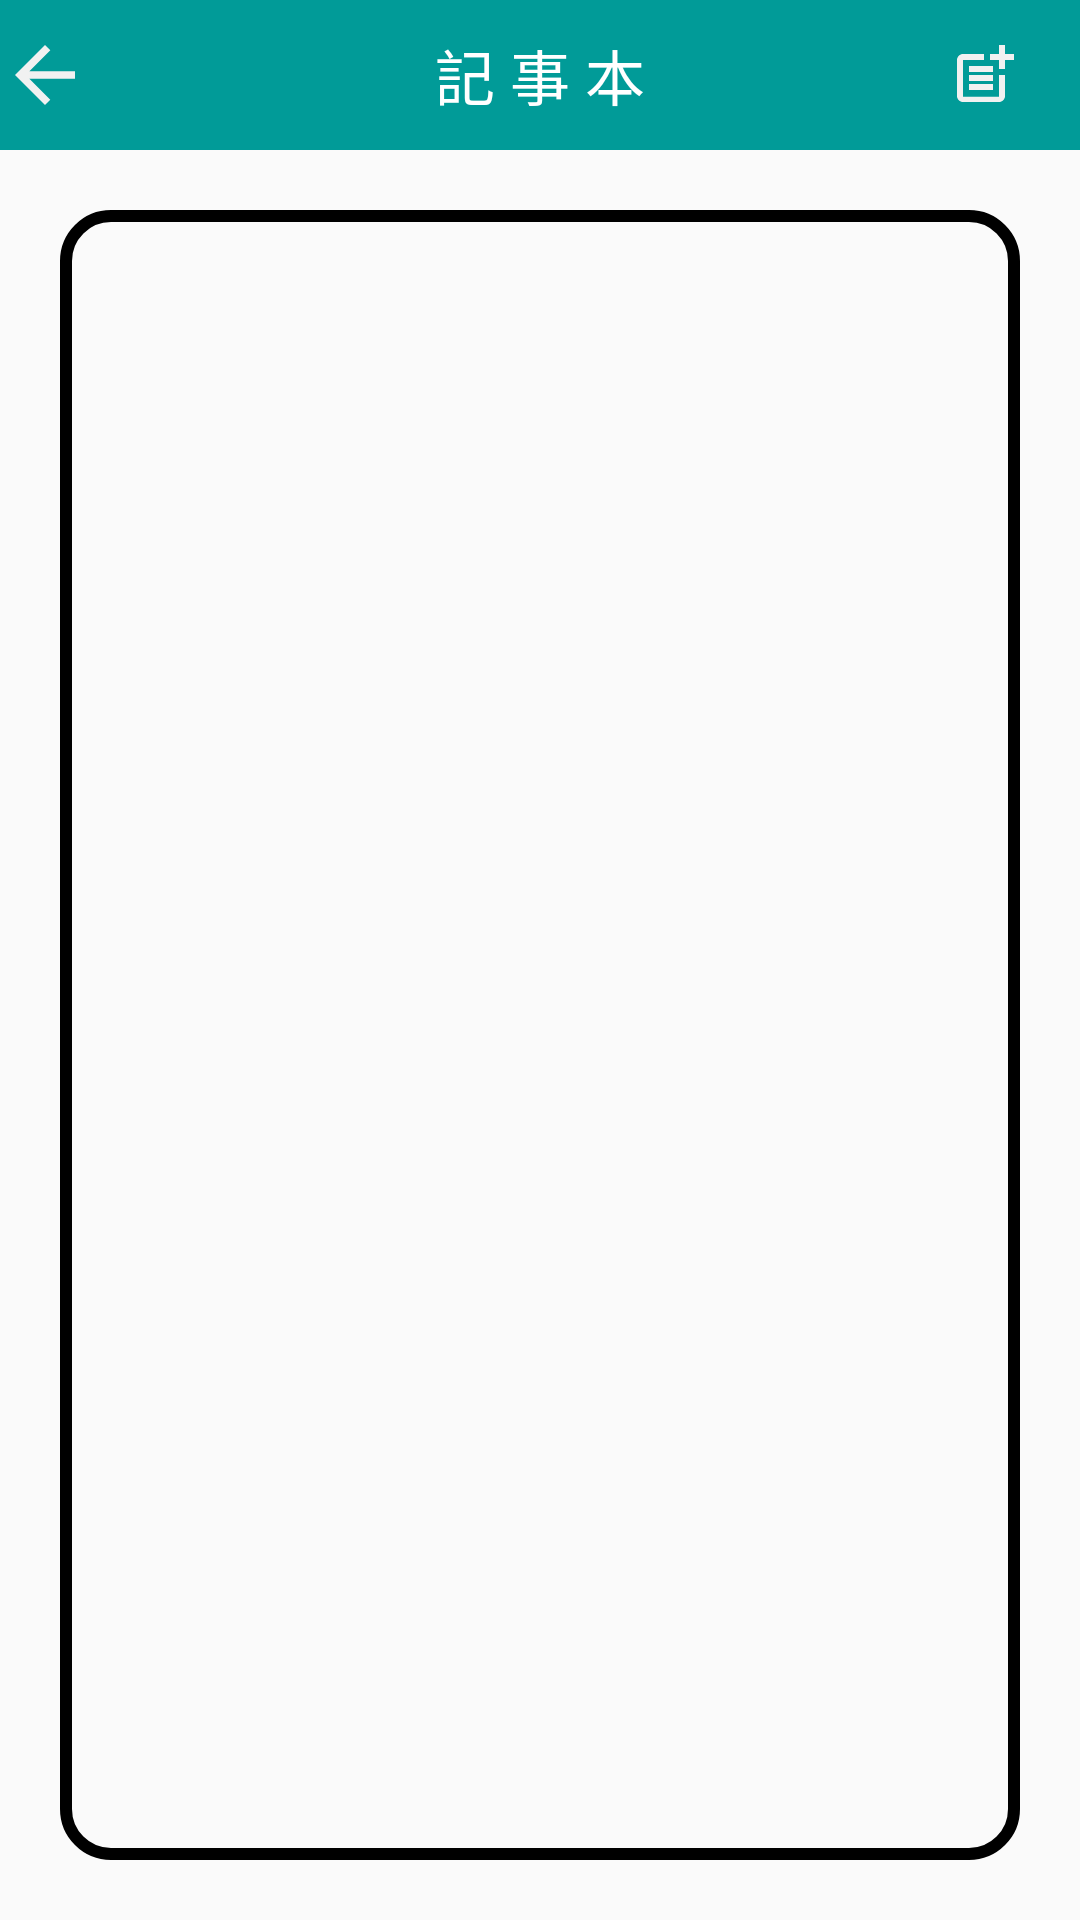

Where icons sit on this 1080x1920 app screen, as (x1, y1, x2, y2):
back: (15, 45, 75, 105)
note add: (957, 45, 1014, 102)
